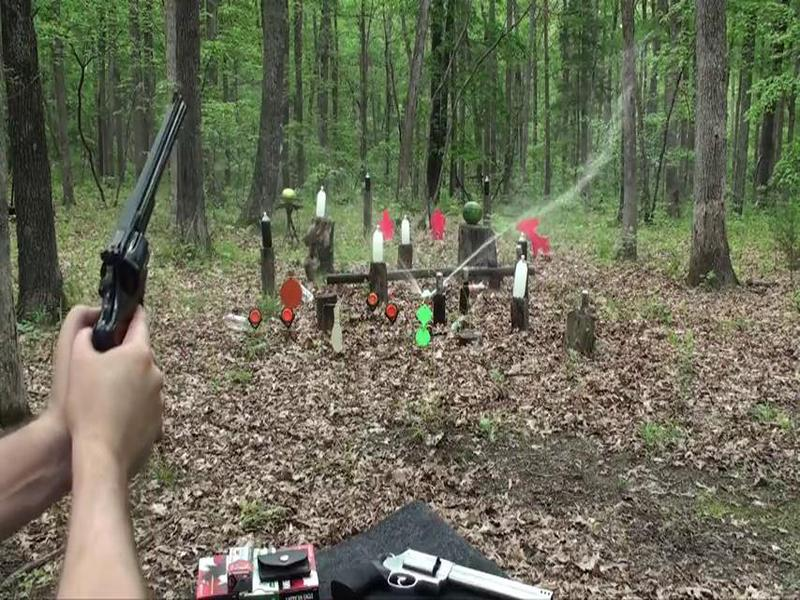Revolver: (74, 85, 214, 384)
